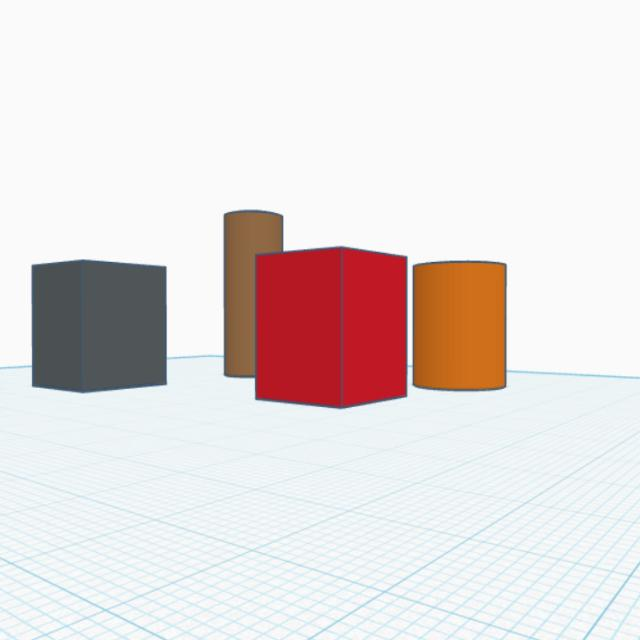cube: (253, 241, 410, 411), (26, 252, 173, 402)
